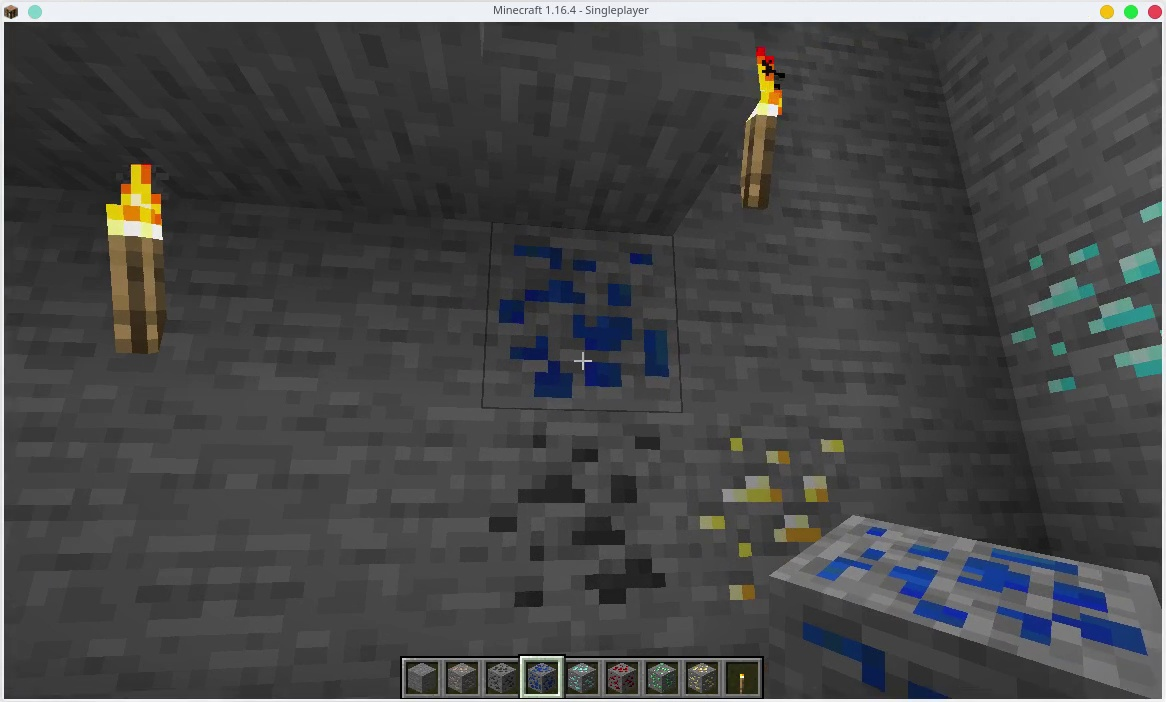gold: (694, 436, 850, 531), (684, 661, 717, 695)
